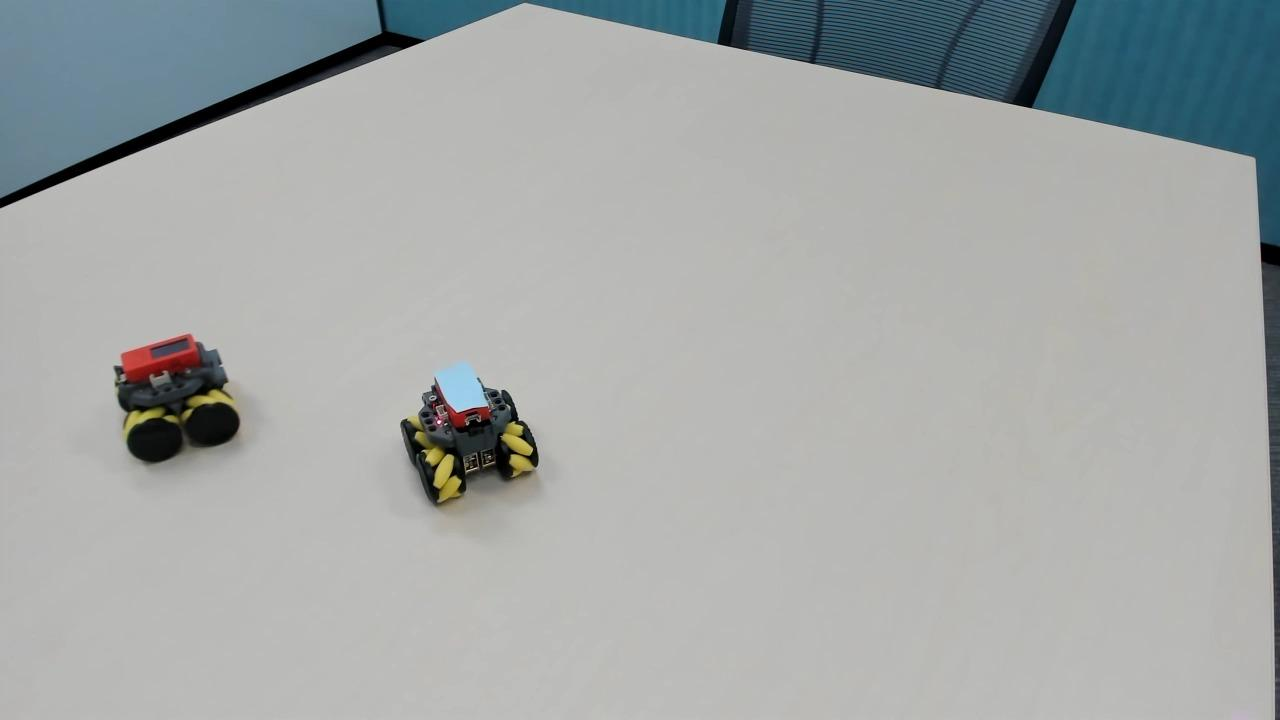B-Robot: (385, 360, 549, 519)
R-Robot: (102, 314, 248, 489)
